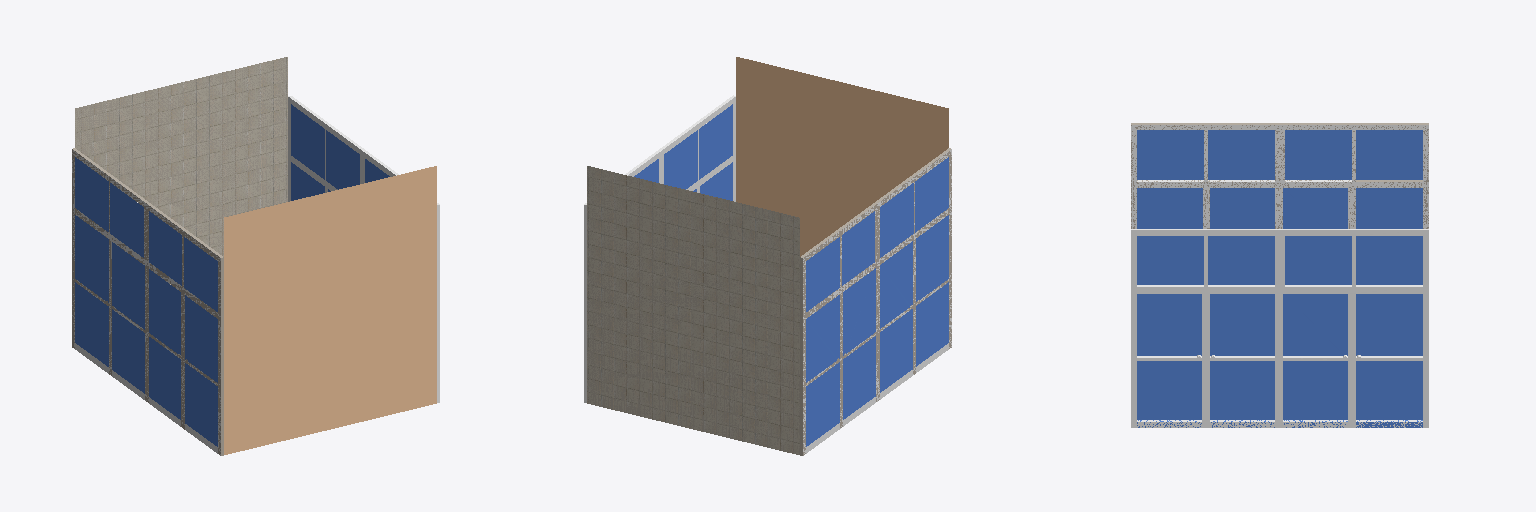
The picture shows the model from 3 angles: view 1: azimuth 30°, elevation 25°; view 2: azimuth 150°, elevation 25°; view 3: azimuth 270°, elevation 25°; orthographic projection.
Visible parts, largest first — view 1: Mesh13 COM018 Model, Mesh1 p16_1 COM018 Model, Mesh7 p16_2 COM018 Model; view 2: Mesh13 COM018 Model, Mesh1 p16_1 COM018 Model, Mesh7 p16_2 COM018 Model; view 3: Mesh7 p16_2 COM018 Model, Mesh1 p16_1 COM018 Model.
Part boxes in pixels (left/top/right/bottom): Mesh13 COM018 Model: left=75, top=57, right=436, bottom=454; Mesh1 p16_1 COM018 Model: left=72, top=148, right=223, bottom=455; Mesh7 p16_2 COM018 Model: left=288, top=96, right=439, bottom=402; Mesh13 COM018 Model: left=587, top=57, right=948, bottom=454; Mesh1 p16_1 COM018 Model: left=800, top=148, right=951, bottom=455; Mesh7 p16_2 COM018 Model: left=584, top=95, right=735, bottom=402; Mesh7 p16_2 COM018 Model: left=1131, top=229, right=1428, bottom=427; Mesh1 p16_1 COM018 Model: left=1131, top=123, right=1428, bottom=228.
Size of the model in its own units: 3.47 by 3.6 by 4.09.
Materials: 7 (1 with a texture image).